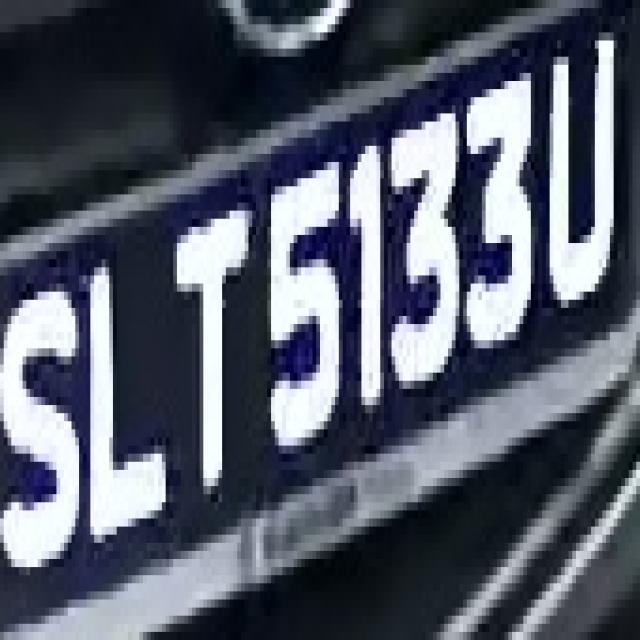1: (350, 105, 388, 446)
3: (380, 97, 471, 421), (452, 56, 538, 364)
5: (256, 137, 346, 446)
L: (75, 235, 177, 559)
S: (8, 260, 86, 584)
T: (158, 186, 252, 518)
U: (546, 33, 621, 332)
